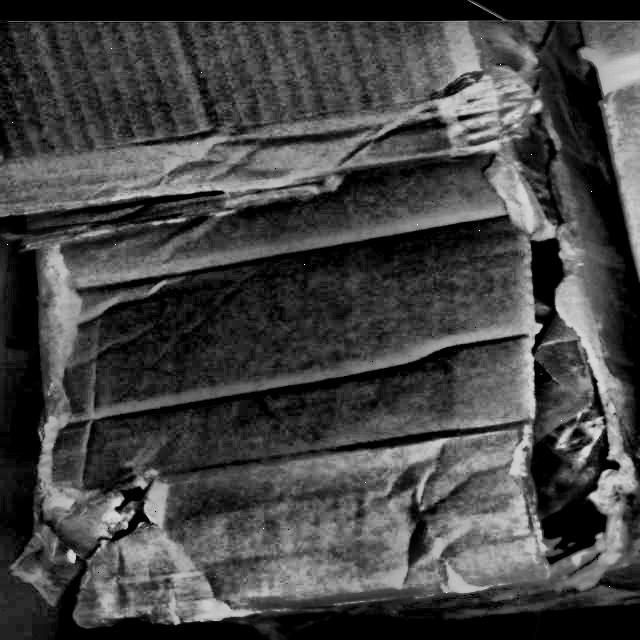box: (0, 11, 638, 638)
hole: (470, 211, 622, 561), (48, 458, 164, 590)
